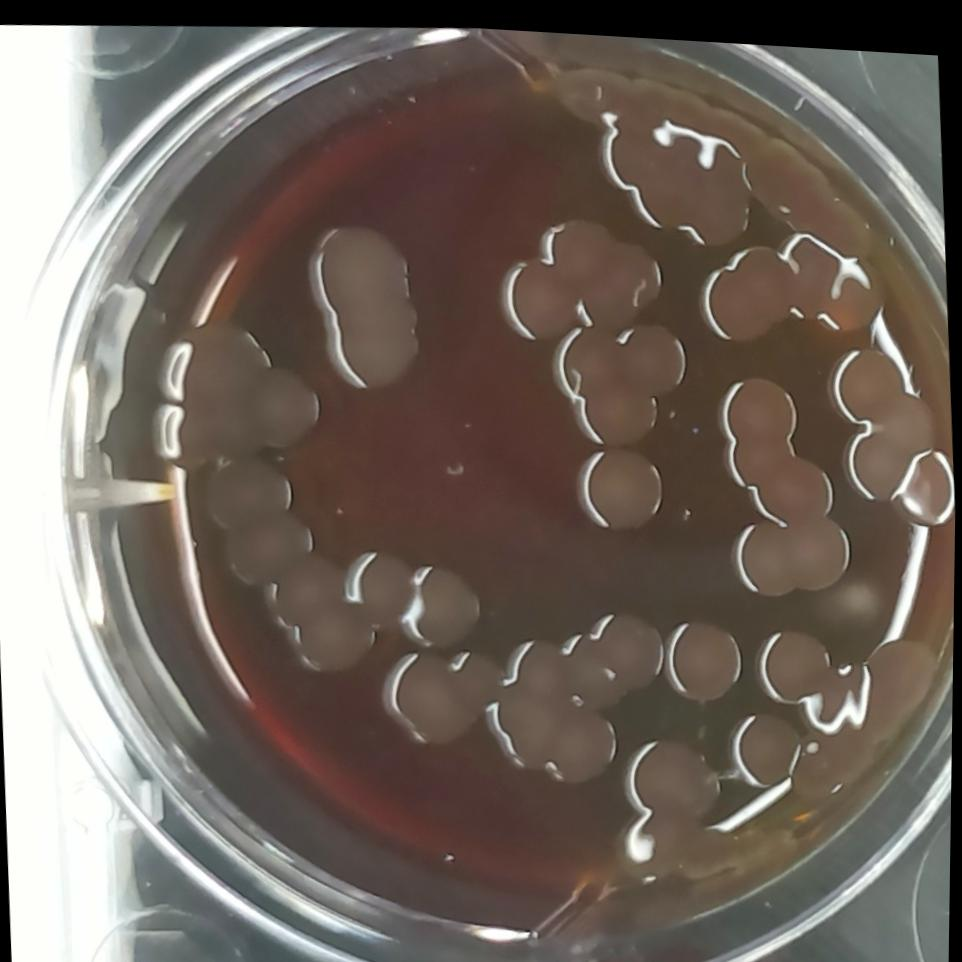vproteolyticus: (194, 447, 381, 677), (707, 357, 860, 597), (154, 310, 327, 469), (484, 192, 673, 334), (688, 211, 881, 341), (301, 210, 432, 398), (593, 93, 754, 245), (550, 305, 695, 447), (502, 595, 673, 710), (489, 669, 619, 784), (379, 637, 503, 749), (843, 414, 957, 523), (621, 722, 729, 822), (573, 434, 674, 530), (395, 549, 487, 646), (664, 605, 746, 701), (821, 332, 911, 418), (751, 614, 835, 700), (342, 540, 418, 629), (729, 699, 806, 778)
